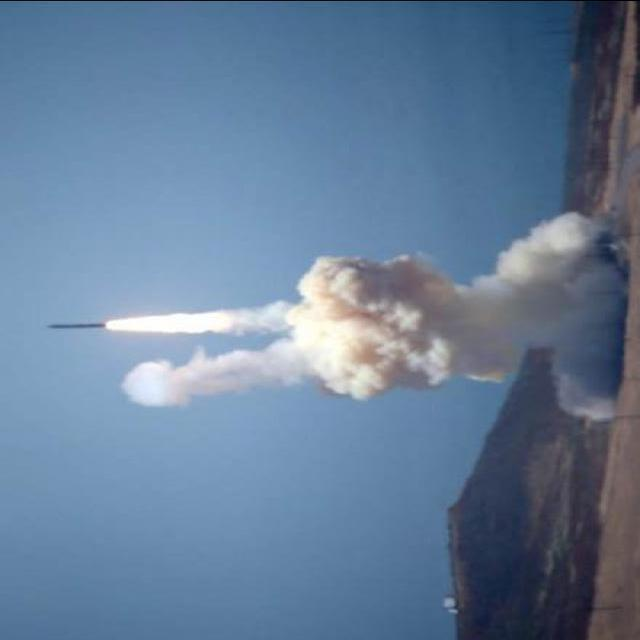missile: (47, 313, 117, 348)
